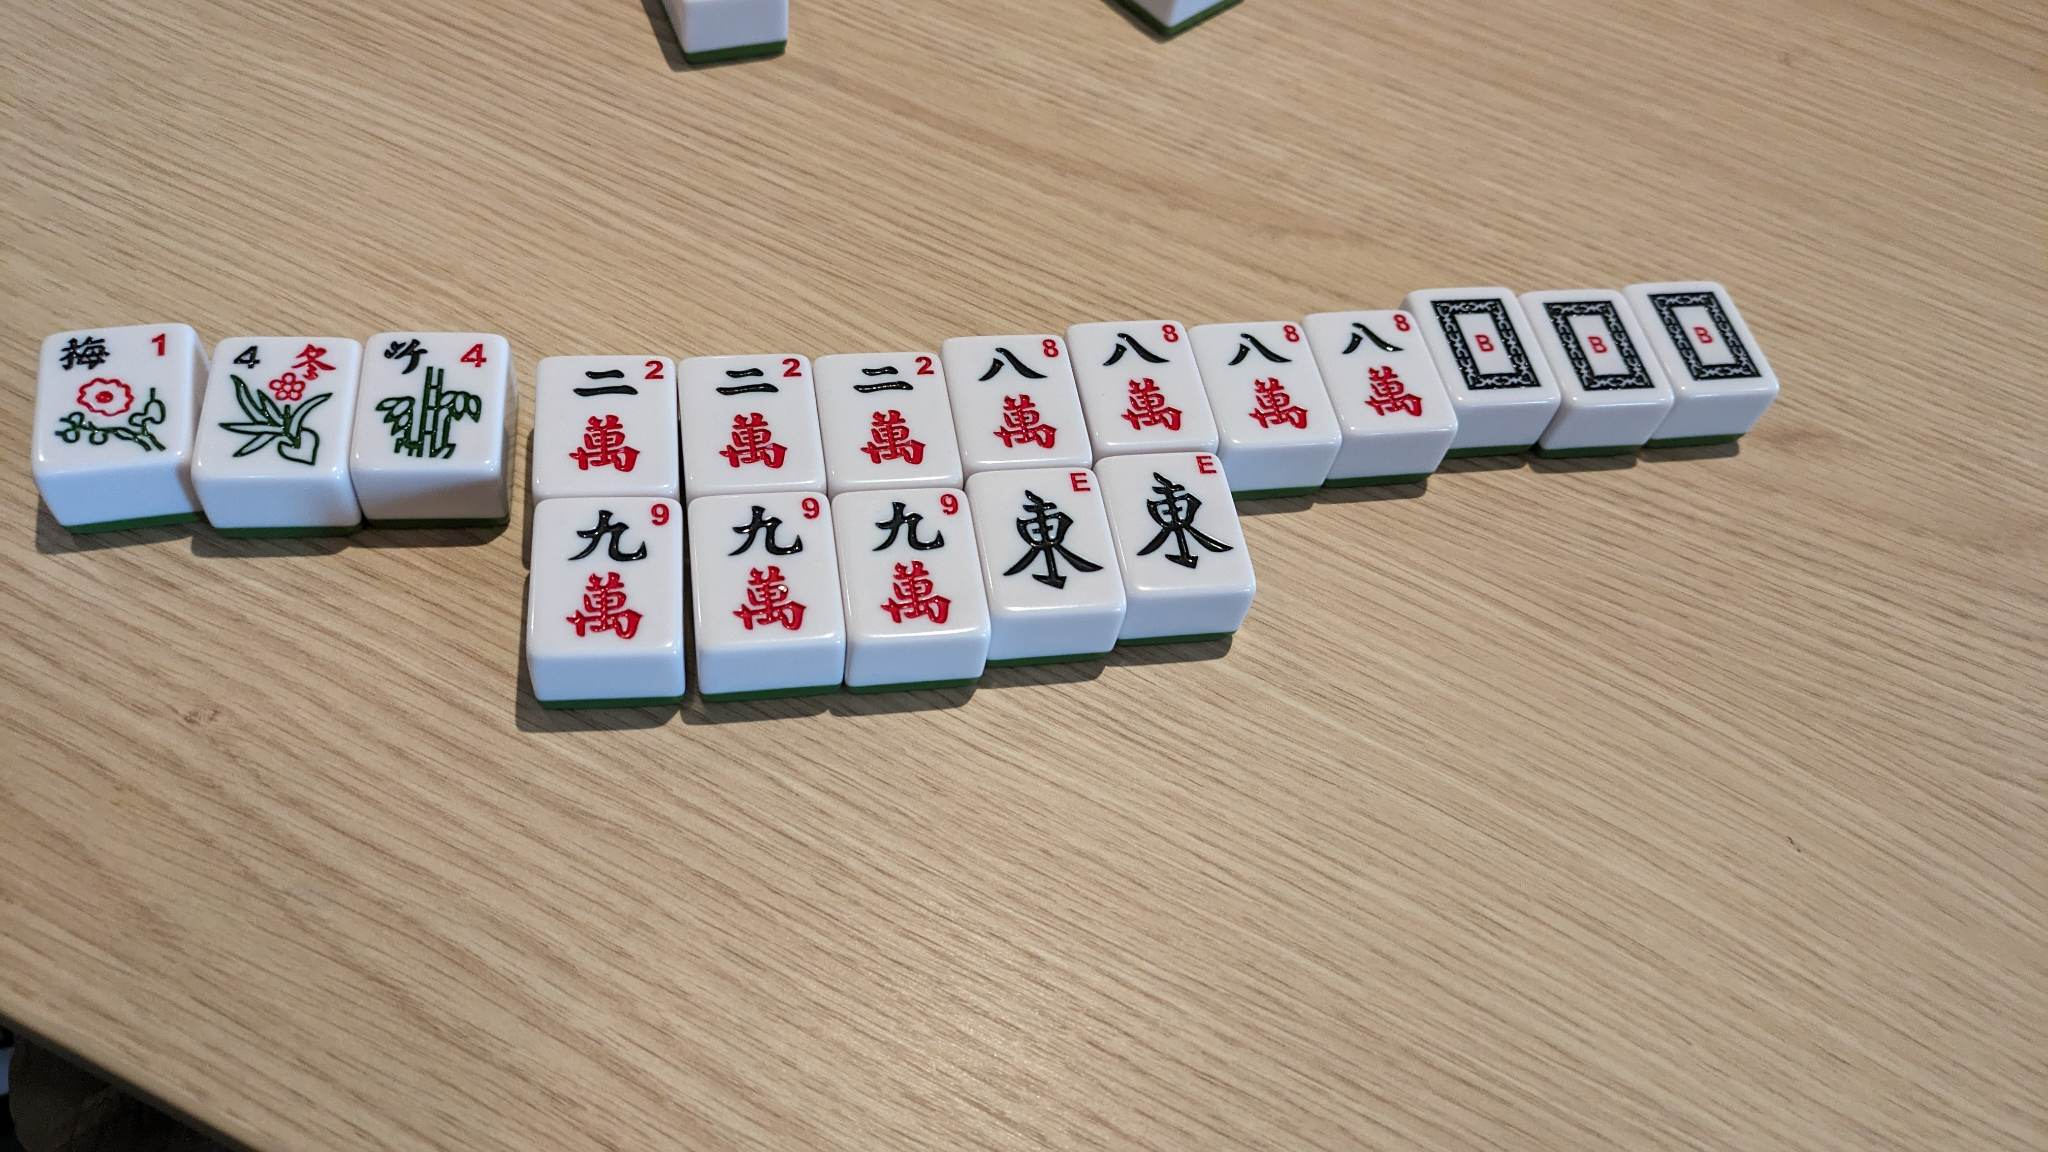character-eight: (962, 338, 1079, 454), (1329, 311, 1429, 428), (1099, 321, 1184, 439), (1224, 321, 1312, 432)
character-nine: (543, 504, 677, 648), (700, 497, 824, 637), (847, 491, 968, 627)
character-two: (540, 359, 670, 488), (693, 353, 816, 477), (838, 353, 947, 471)
flower-blue_four: (369, 331, 498, 471)
flower-blue_one: (45, 328, 180, 461)
flower-red_four: (212, 335, 338, 468)
honor-blue_dragon: (1542, 295, 1658, 398), (1651, 286, 1765, 385), (1429, 293, 1536, 392)
honor-east_wind: (993, 467, 1101, 598), (1125, 452, 1234, 572)
